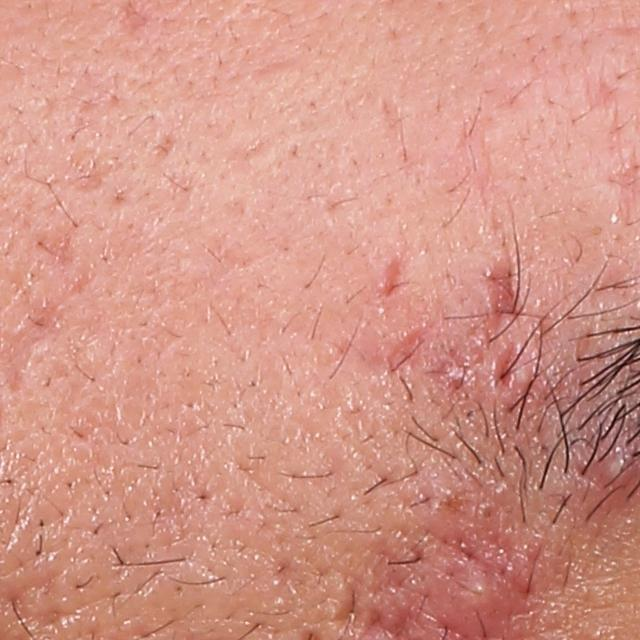atrophic_scar: (468, 240, 526, 337), (21, 223, 78, 266), (333, 572, 365, 638), (117, 2, 153, 39), (385, 253, 406, 299), (152, 130, 177, 162)
pustule: (443, 553, 500, 618)
